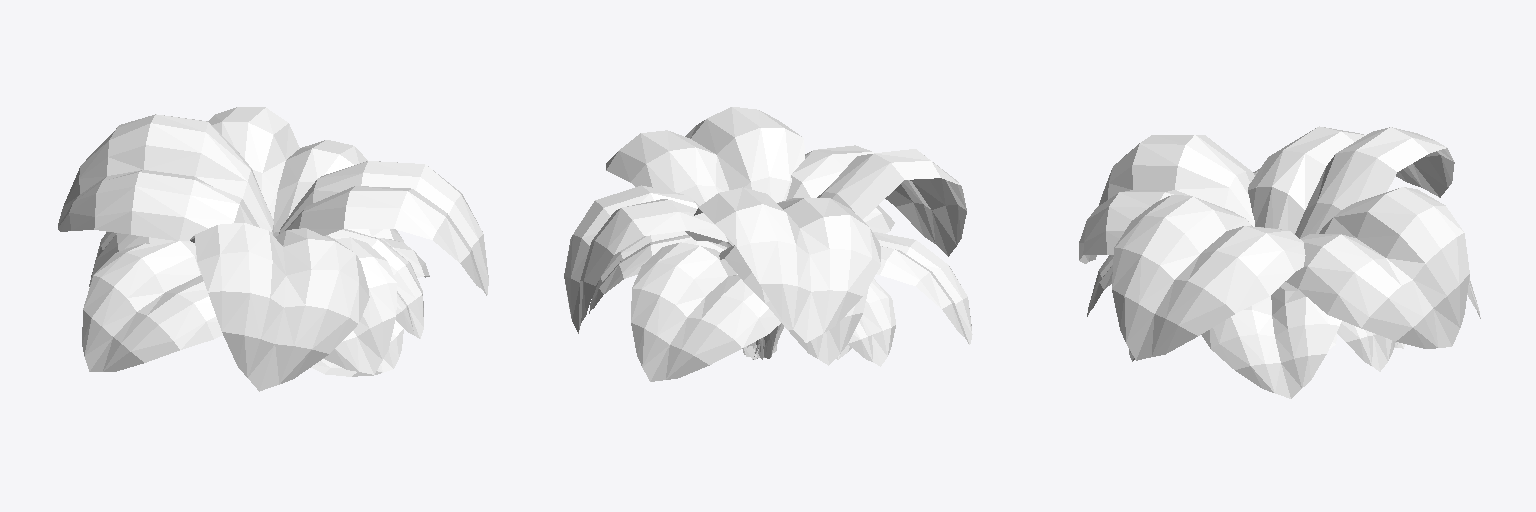
File: bush.obj
The picture shows the model from 3 angles: view 1: azimuth 30°, elevation 25°; view 2: azimuth 150°, elevation 25°; view 3: azimuth 270°, elevation 25°; orthographic projection.
Parts seen in each view (by area): view 1: rg_57_0; view 2: rg_57_0; view 3: rg_57_0.
Part boxes in pixels (x1,y1,x2,y2): rg_57_0: (58, 107, 488, 391); rg_57_0: (564, 107, 972, 381); rg_57_0: (1079, 126, 1480, 398).
Size of the model in its own units: 2 by 1.08 by 1.89.